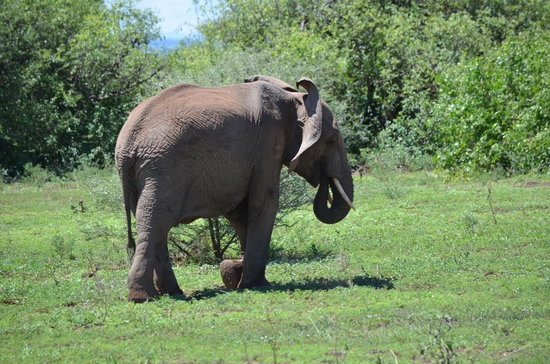elephant: (110, 67, 363, 308)
